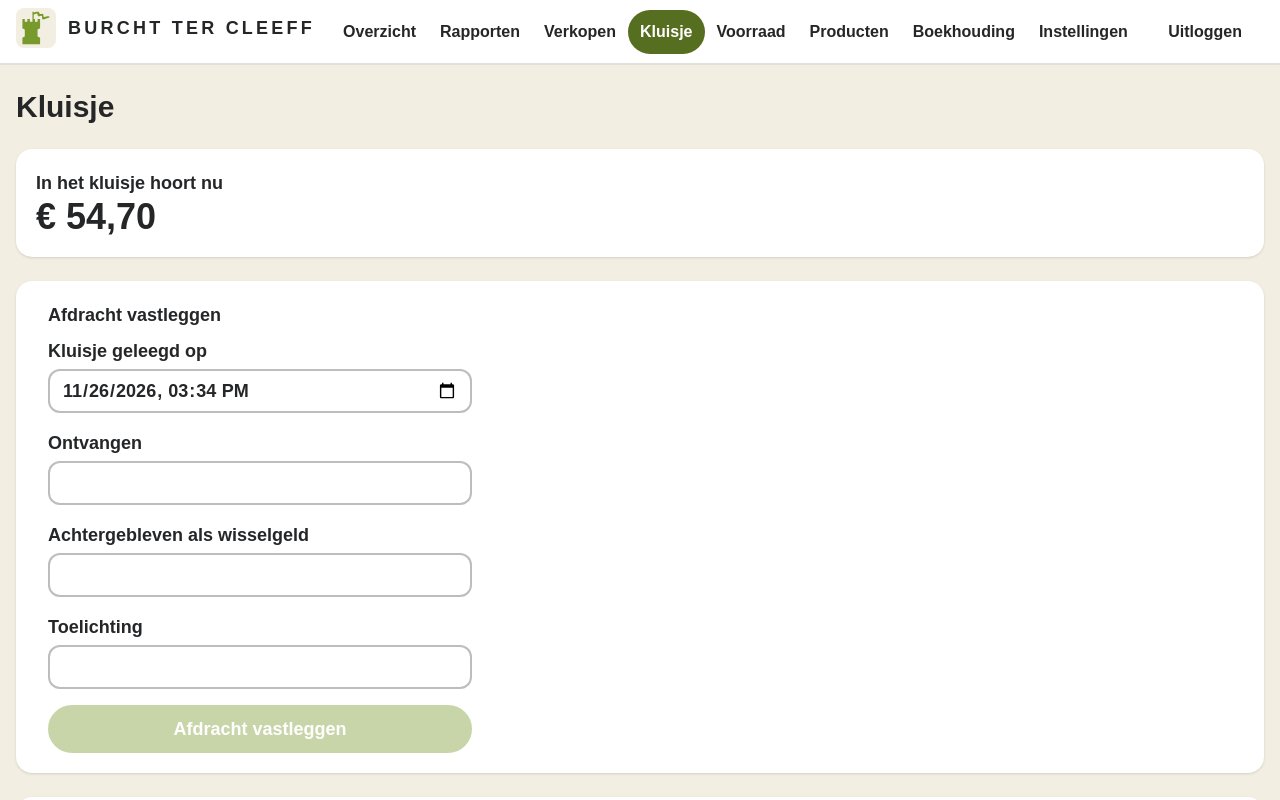
Test: reads a handover back before recording it, and records nothing on Terug
The width and height of the screenshot is (1280, 800).
Type "4" into the field labelled "Ontvangen" at x=260, y=483, box [48,461,472,505]
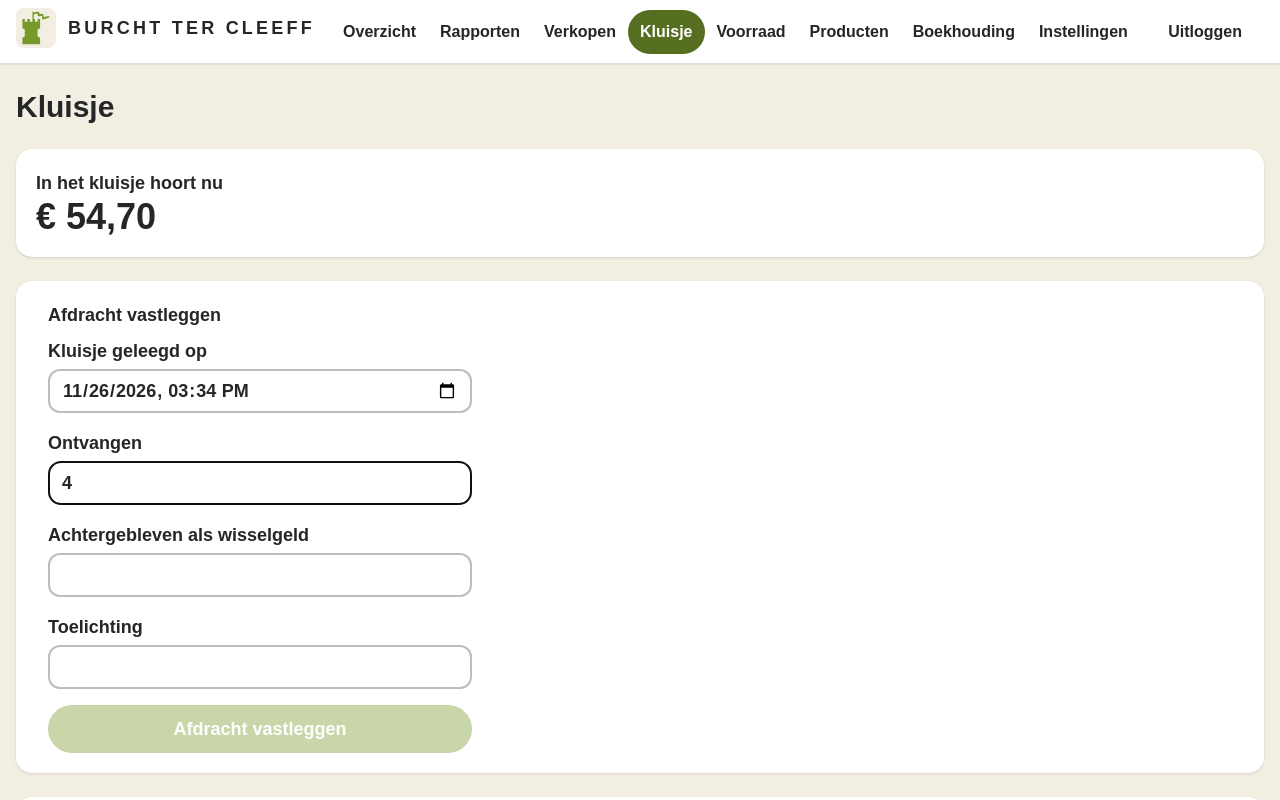
Type "50,00" into the field labelled "Achtergebleven als wisselgeld" at x=260, y=575, box [48,553,472,597]
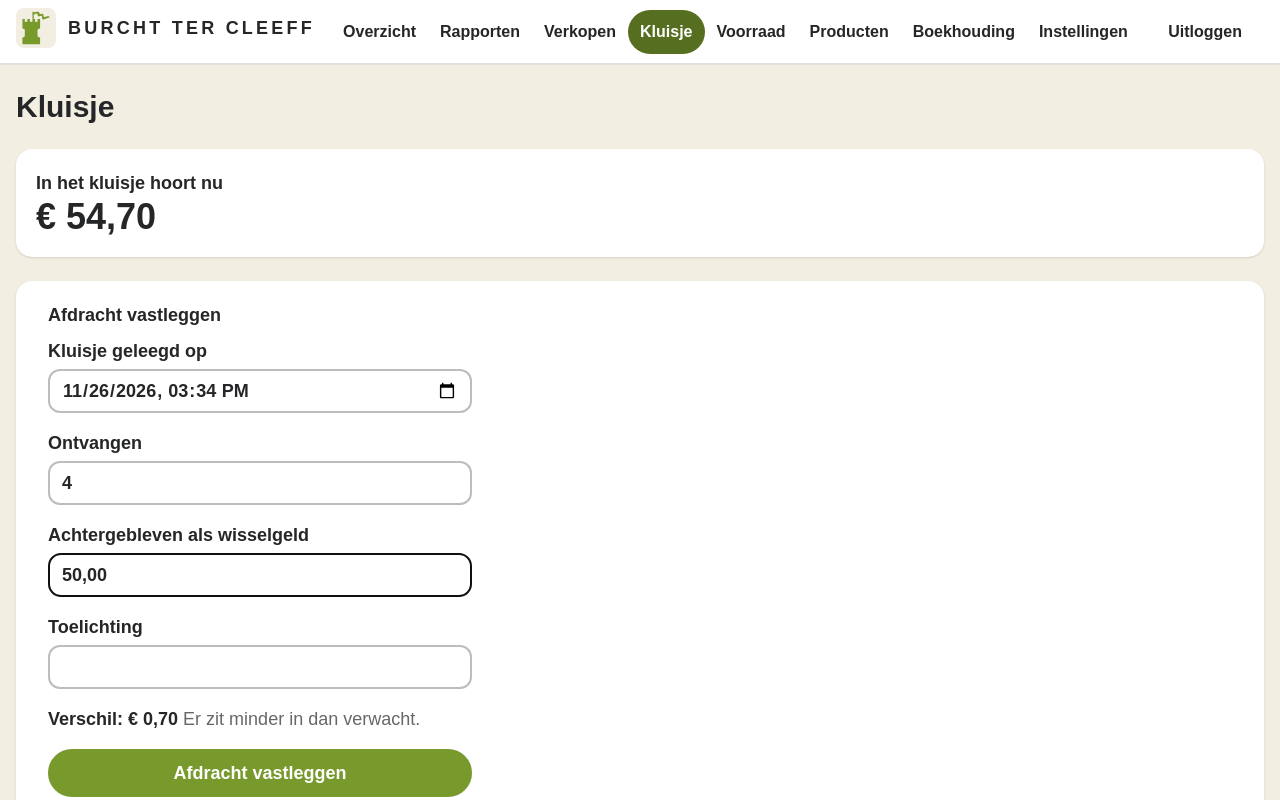
Replace the text in the field labelled "Kluisje geleegd op" with "2026-07-31T18:00" at x=260, y=391, box [48,369,472,413]
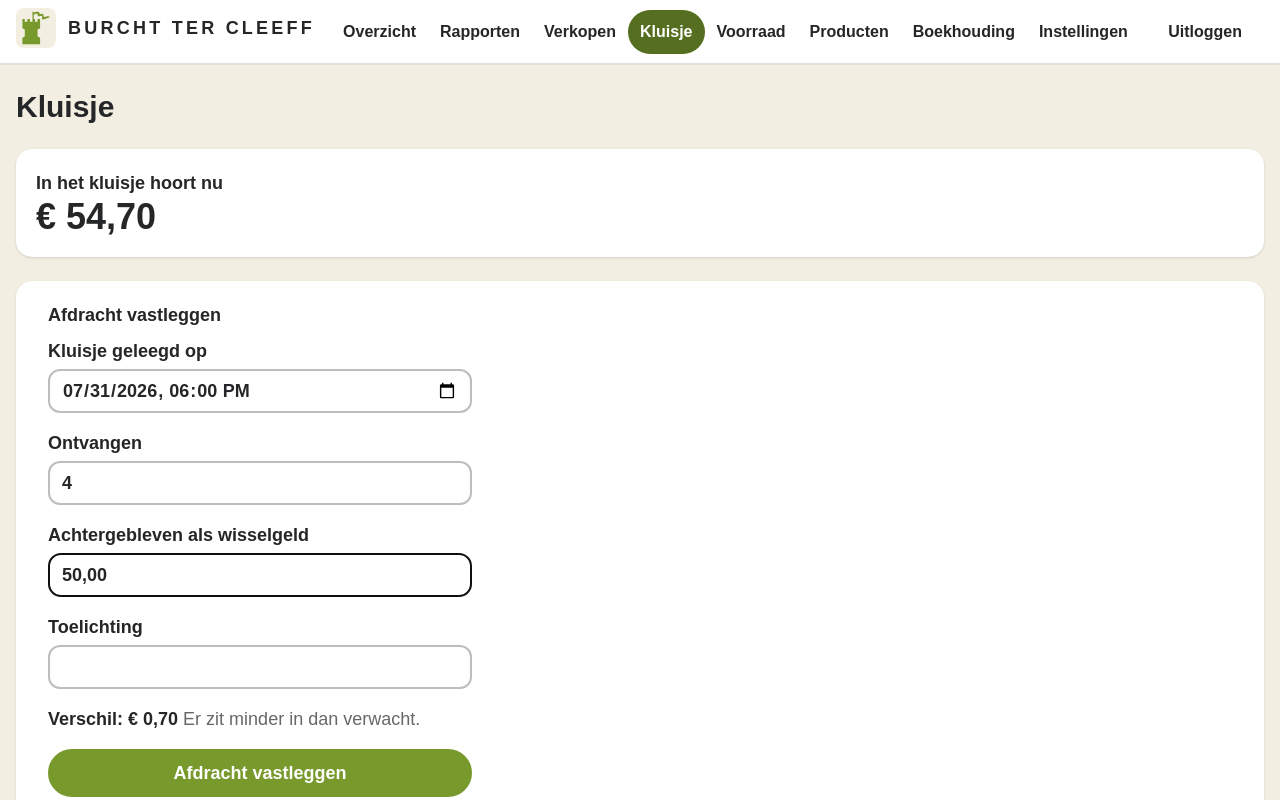
Click the button "Afdracht vastleggen" at x=260, y=773, box [48,749,472,797]
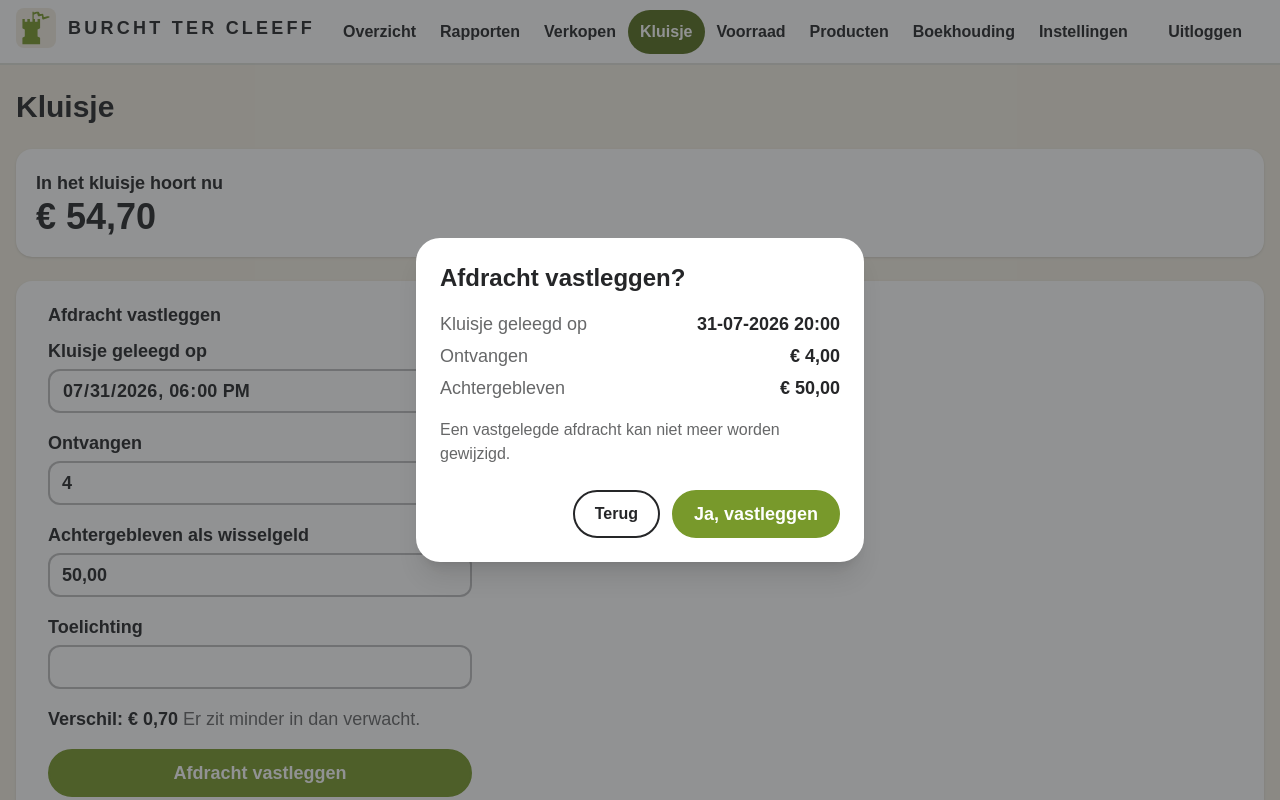
Now the text "€ 4,00" is shown, box [790,346,840,366]
Now the text "€ 50,00" is shown, box [780,378,840,398]
Now the text "Een vastgelegde afdracht kan niet meer worden gewijzigd." is shown, box [440,421,780,462]
Click the button "Terug" at x=616, y=514, box [573,490,660,538]
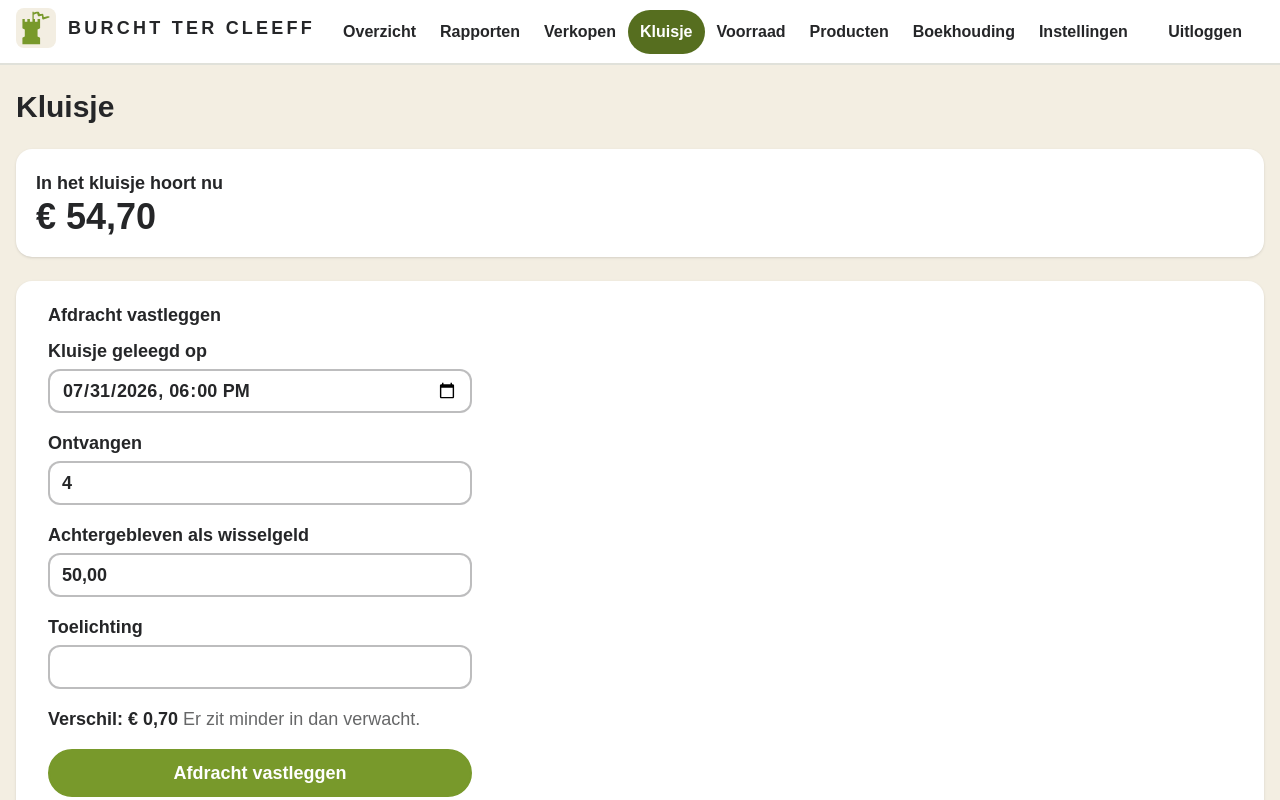
Now the dialog is gone
